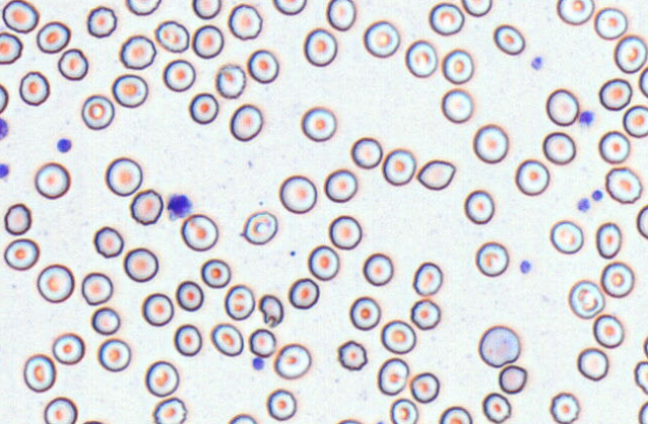PLT: (167, 193, 194, 221), (56, 138, 73, 154), (250, 356, 268, 371), (0, 116, 10, 142), (519, 258, 533, 276), (579, 111, 594, 126), (577, 197, 591, 213), (591, 188, 605, 203), (0, 161, 11, 180), (530, 56, 543, 71)
RBC: (278, 174, 317, 213), (104, 156, 142, 196), (36, 263, 74, 303), (362, 19, 400, 58), (568, 279, 605, 319), (180, 213, 218, 251), (472, 123, 508, 163), (273, 342, 311, 379), (605, 166, 642, 203), (34, 161, 70, 199), (514, 158, 549, 196), (613, 34, 647, 73), (303, 27, 337, 66), (144, 360, 179, 397), (227, 3, 262, 40), (119, 34, 156, 69), (111, 73, 148, 108), (545, 88, 579, 126), (382, 148, 416, 186), (229, 103, 263, 141), (23, 353, 56, 392), (380, 319, 416, 354), (241, 210, 277, 245), (300, 106, 336, 141), (129, 188, 163, 225), (600, 261, 634, 298), (1, 0, 39, 33), (404, 39, 437, 77), (123, 247, 158, 282), (377, 357, 409, 395), (97, 337, 131, 372), (549, 219, 583, 254), (328, 214, 362, 249), (3, 237, 39, 270), (428, 2, 464, 35), (475, 241, 508, 277), (440, 87, 473, 123), (81, 94, 114, 130), (307, 244, 339, 281), (323, 168, 357, 202), (542, 131, 576, 165), (593, 6, 627, 40), (154, 20, 189, 53), (18, 70, 50, 106), (441, 48, 473, 84), (576, 347, 609, 381), (51, 332, 85, 365), (210, 322, 243, 356), (141, 292, 174, 326), (162, 58, 195, 92), (191, 24, 224, 58), (36, 20, 70, 53), (246, 49, 279, 83), (598, 77, 632, 110), (592, 313, 624, 348), (215, 63, 246, 99), (224, 284, 255, 320), (81, 271, 113, 305), (598, 130, 630, 164), (349, 295, 380, 330), (463, 189, 494, 224), (350, 136, 382, 169), (492, 23, 525, 55), (362, 252, 393, 286), (412, 261, 442, 296), (93, 225, 124, 258), (86, 5, 117, 38), (595, 221, 622, 258), (549, 391, 580, 423), (288, 277, 319, 309), (57, 48, 88, 80), (336, 339, 367, 370), (409, 371, 439, 403), (410, 298, 440, 330), (266, 388, 296, 420), (188, 92, 218, 124), (173, 323, 202, 356), (556, 0, 594, 25), (481, 392, 511, 423), (200, 258, 231, 288), (326, 0, 356, 31), (3, 202, 31, 235), (43, 396, 77, 423), (152, 397, 187, 423), (498, 364, 527, 394), (90, 306, 120, 335), (175, 280, 203, 311), (622, 104, 647, 137), (248, 328, 276, 357), (389, 397, 418, 423), (0, 31, 22, 64), (438, 405, 472, 423), (191, 0, 221, 19), (125, 0, 161, 15), (461, 0, 492, 17), (272, 0, 306, 15), (634, 360, 647, 394), (636, 204, 647, 239), (227, 413, 257, 423), (638, 65, 647, 98), (0, 83, 8, 114), (638, 400, 648, 423), (335, 418, 363, 424), (79, 419, 107, 424), (643, 333, 648, 359), (372, 420, 389, 424), (0, 337, 2, 367)
Schistocyte: (476, 325, 522, 367), (417, 161, 457, 192), (259, 293, 284, 327)
